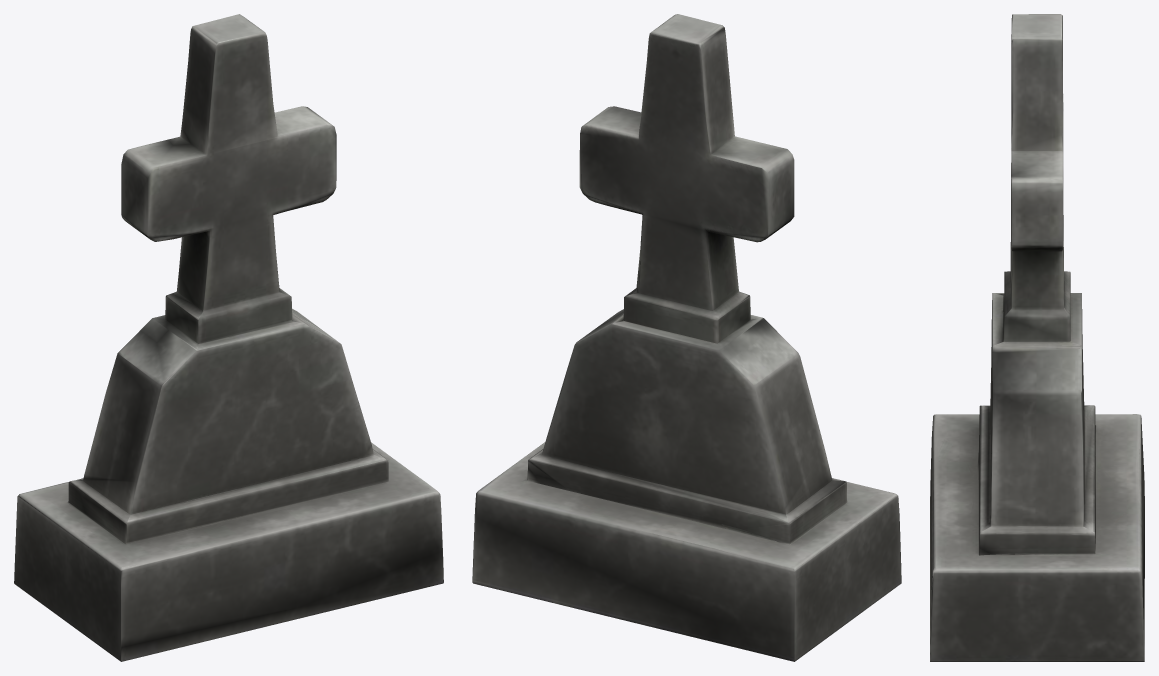
The model's file is tombstone_cross.glb.
3 renders of one model, left to right at view 1: azimuth 30°, elevation 25°; view 2: azimuth 150°, elevation 25°; view 3: azimuth 270°, elevation 25°, orthographic.
Parts seen in each view (by area): view 1: tombstone_cross; view 2: tombstone_cross; view 3: tombstone_cross.
Part boxes in pixels (x1,y1,x2,y2): tombstone_cross: (14, 14, 443, 661); tombstone_cross: (472, 14, 901, 661); tombstone_cross: (930, 14, 1144, 661).
Size of the model in its own units: 0.6086 by 1 by 0.3492.
1 material, 1 textured.
